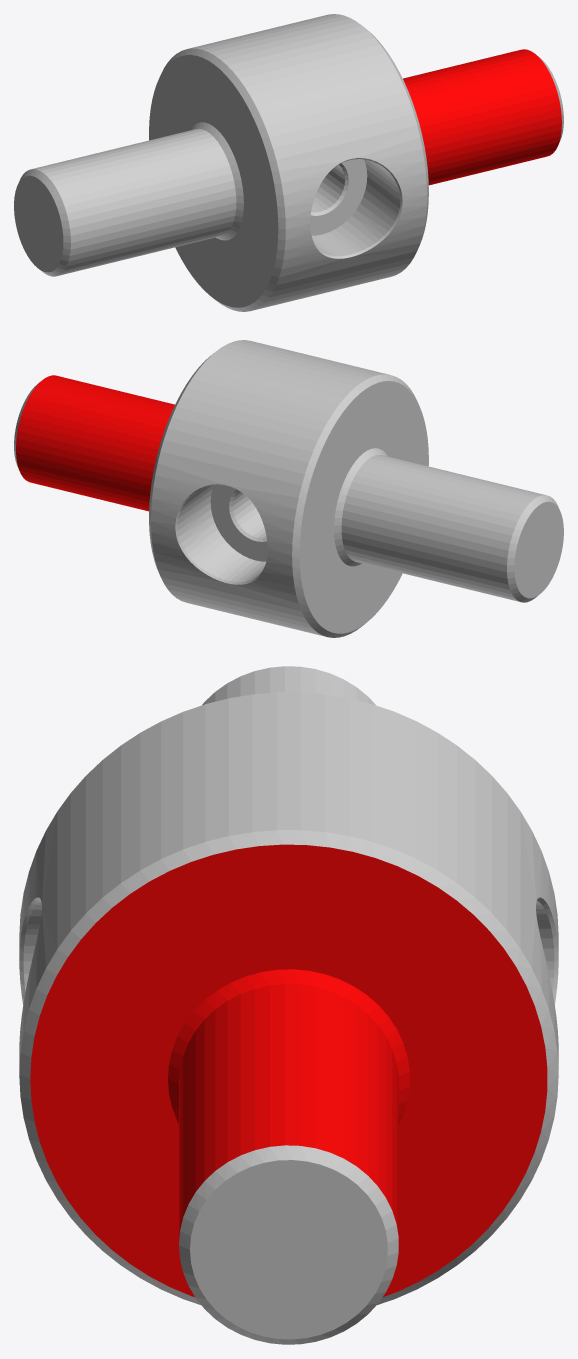
File: 14__stp_9_10_11.obj
3 renders of one model, top to bottom at view 1: azimuth 30°, elevation 25°; view 2: azimuth 150°, elevation 25°; view 3: azimuth 270°, elevation 25°, orthographic. The views are drawn at different scales.
Parts seen in each view (by area): view 1: Object1; view 2: Object1; view 3: Object1.
Boxes of the visible parts, left/top/right/bottom form: Object1: left=14, top=14, right=563, bottom=311; Object1: left=14, top=340, right=563, bottom=637; Object1: left=19, top=666, right=558, bottom=1344.
Bounding box in the file's own units: 210 × 97.9 × 98.
